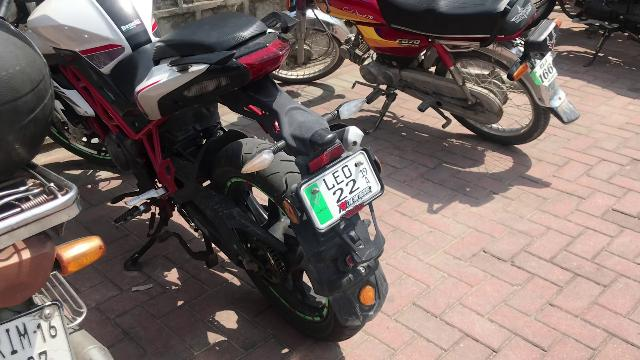plate: (300, 151, 384, 231), (530, 50, 559, 87)
